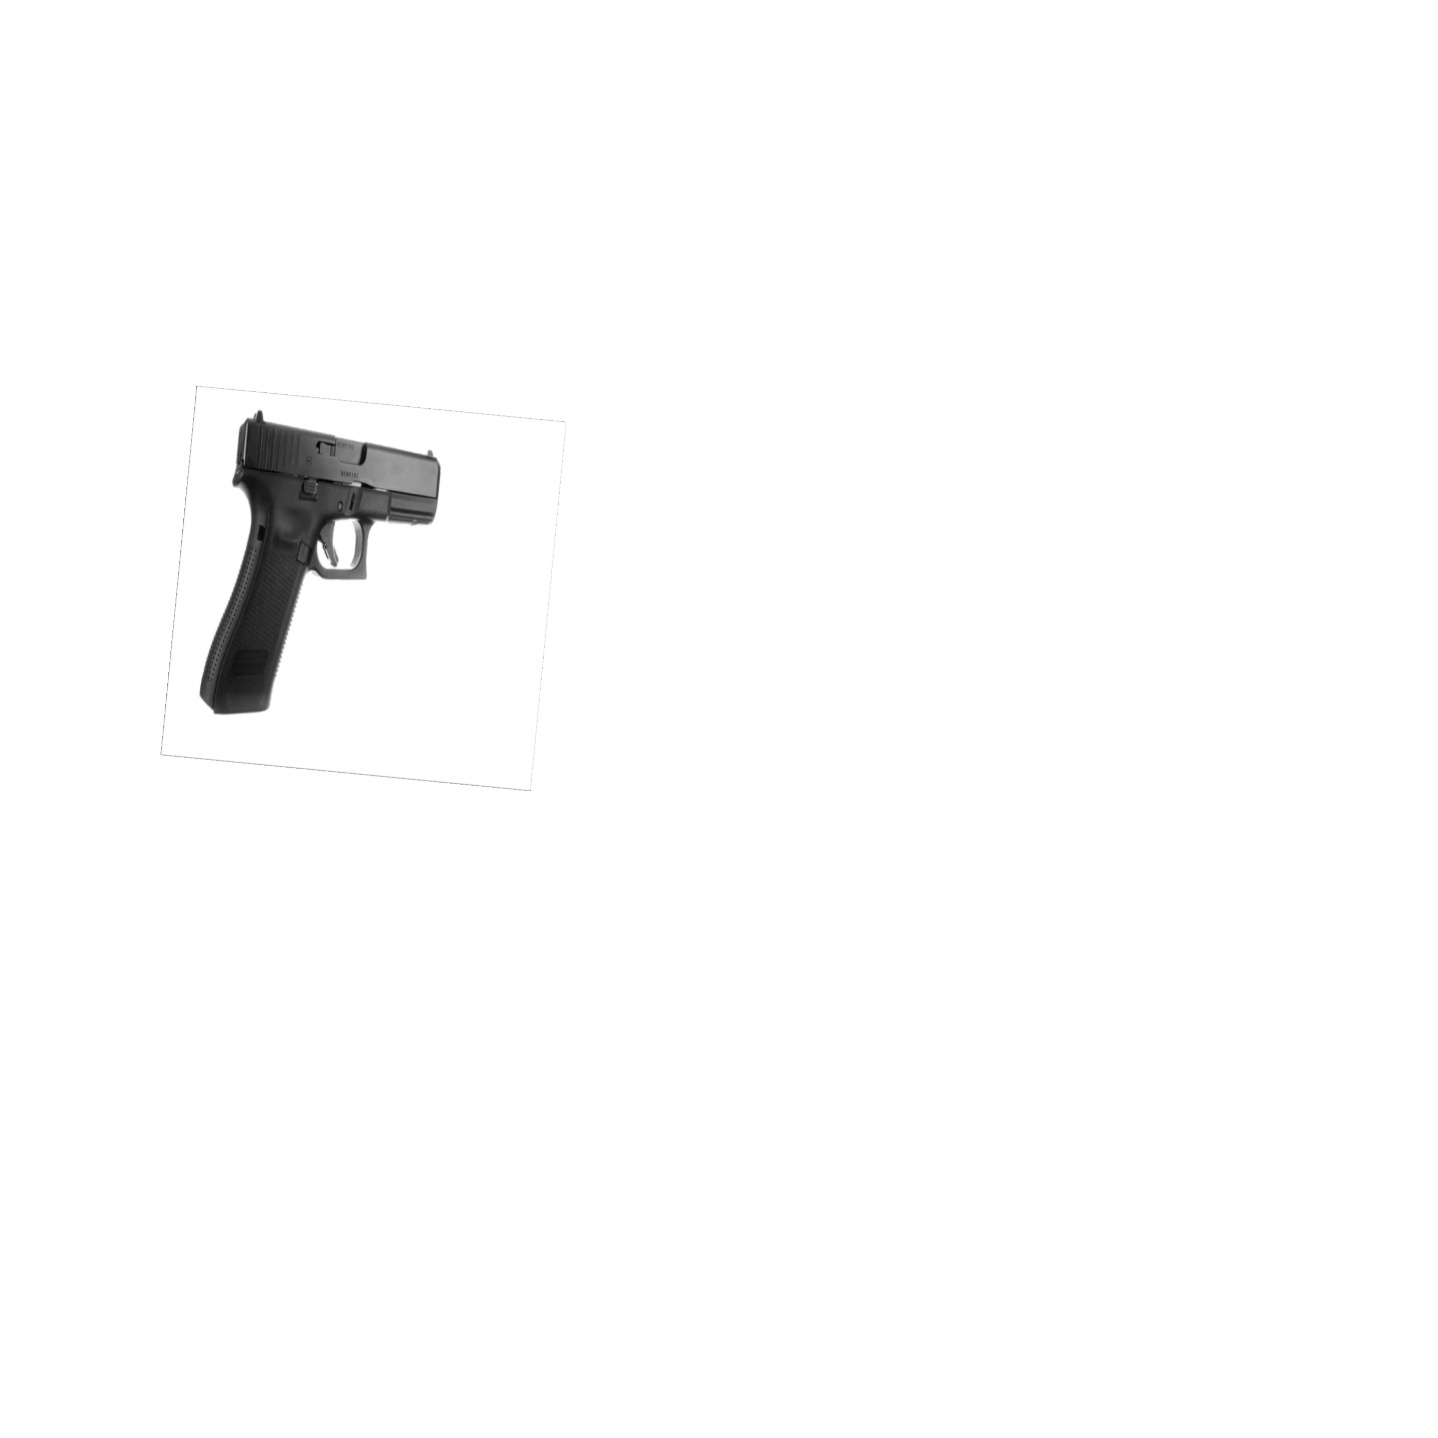gun: (180, 412, 445, 723)
